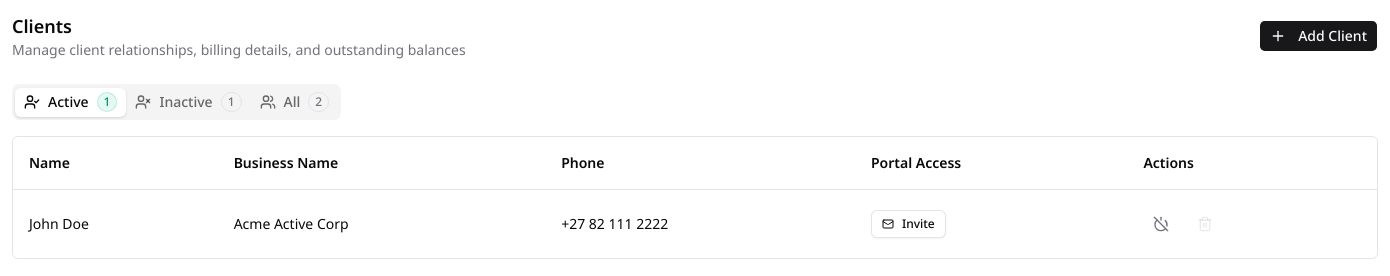
ClientsPageClient Status Tabs › switches to Inactive tab and renders inactive clients with activate option
Note: Click on Inactive tab
Click the tab "Inactive 1" at (188, 102), box [126, 88, 250, 116]
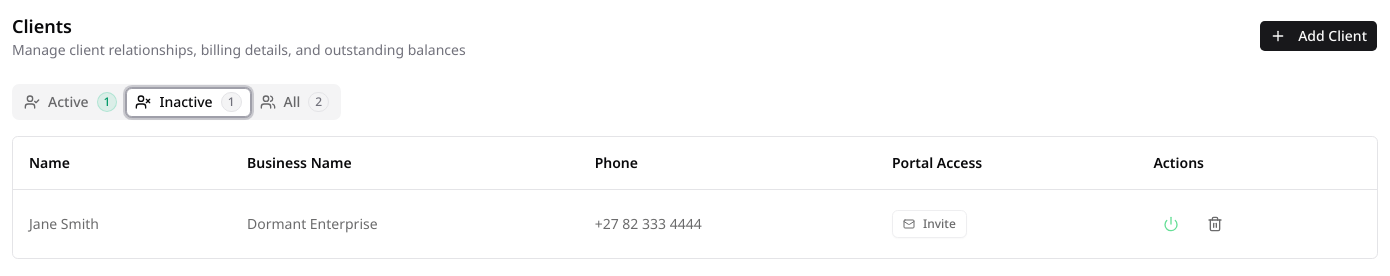
Expected: the text "Dormant Enterprise" is shown, [231, 190, 579, 258]
Expected: the text "Acme Active Corp" is gone
